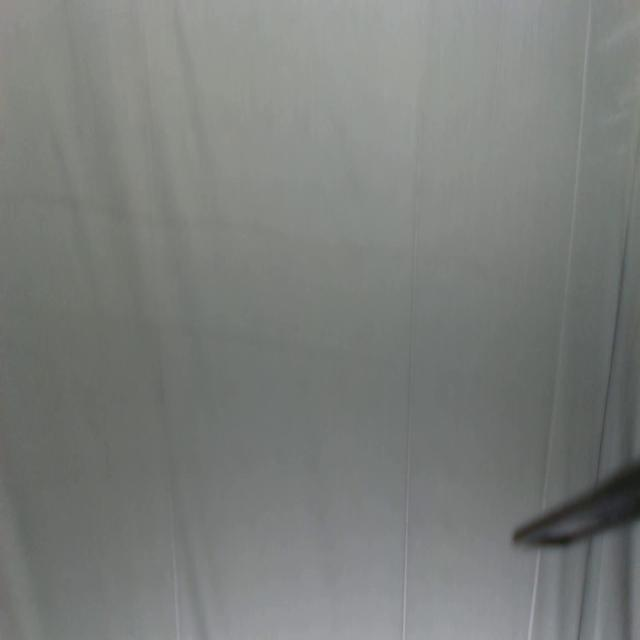crease: (545, 0, 594, 491), (596, 138, 640, 470), (401, 132, 424, 638), (576, 536, 594, 640), (167, 521, 183, 635), (526, 553, 543, 640)
